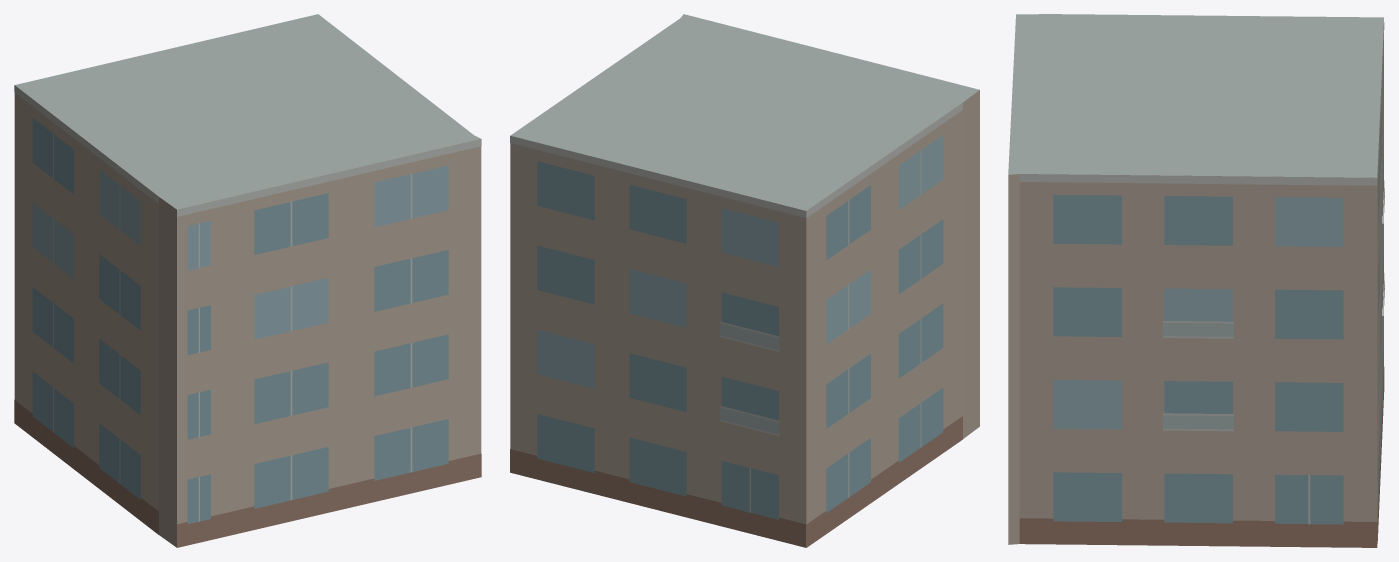
The model's file is survey-upis-32976731.glb.
The picture shows the model from 3 angles, left to right: view 1: azimuth 30°, elevation 25°; view 2: azimuth 150°, elevation 25°; view 3: azimuth 270°, elevation 25°; orthographic projection. The views are drawn at different scales.
Parts seen in each view (by area): view 1: survey-upis-32976731.tmp; view 2: survey-upis-32976731.tmp; view 3: survey-upis-32976731.tmp.
Boxes of the visible parts, x1=… form: survey-upis-32976731.tmp: x1=14, y1=14, x2=481, y2=547; survey-upis-32976731.tmp: x1=510, y1=14, x2=979, y2=547; survey-upis-32976731.tmp: x1=1008, y1=14, x2=1384, y2=547.
Bounding box in the file's own units: 10.74 × 11.3 × 10.43.
